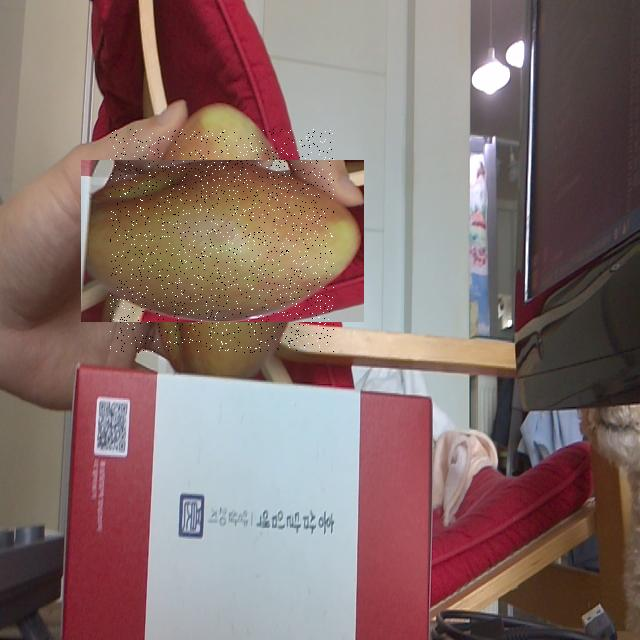apple: (110, 129, 334, 353)
